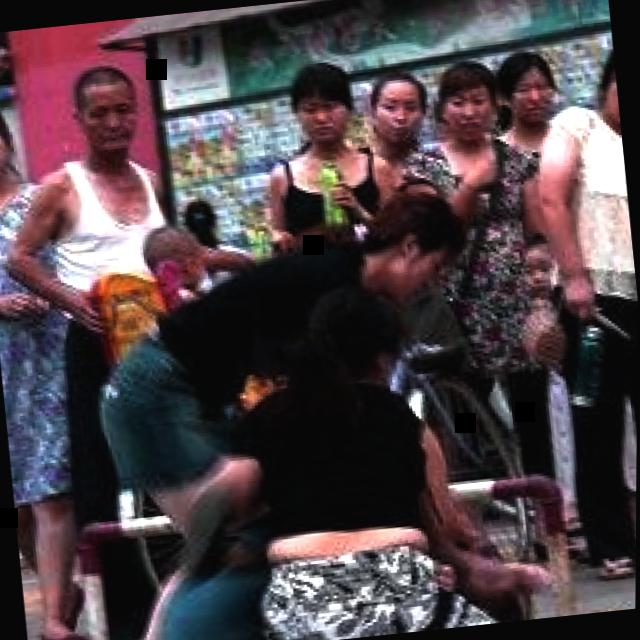Fall-Detected: (109, 498, 551, 640)
